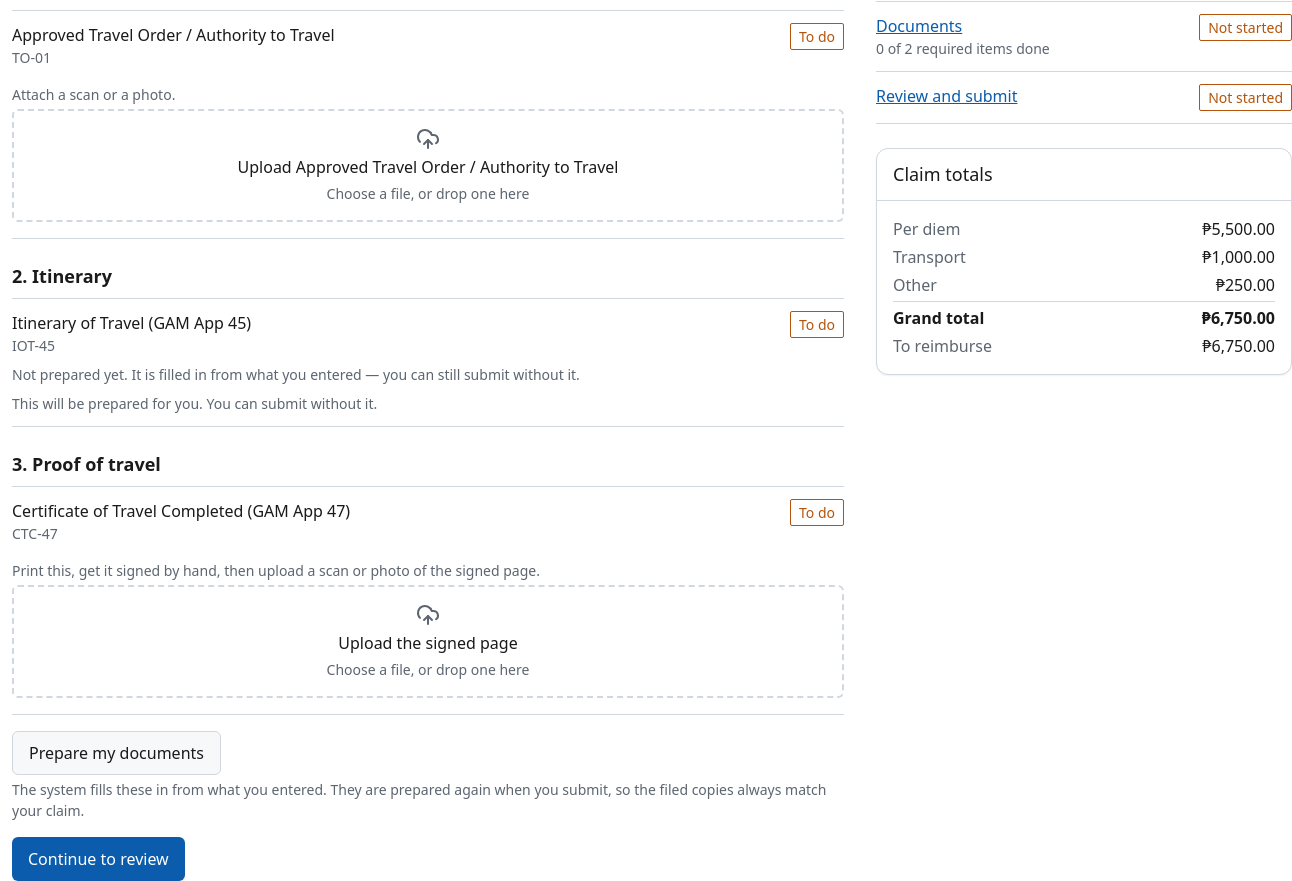
Test: DocumentsStepPage › surfaces the server's reason when the claim is not ready to generate
(page scrolled)
Click the button "Prepare my documents" at (116, 753), box top-left (12, 731), bottom-right (221, 775)
(page scrolled)
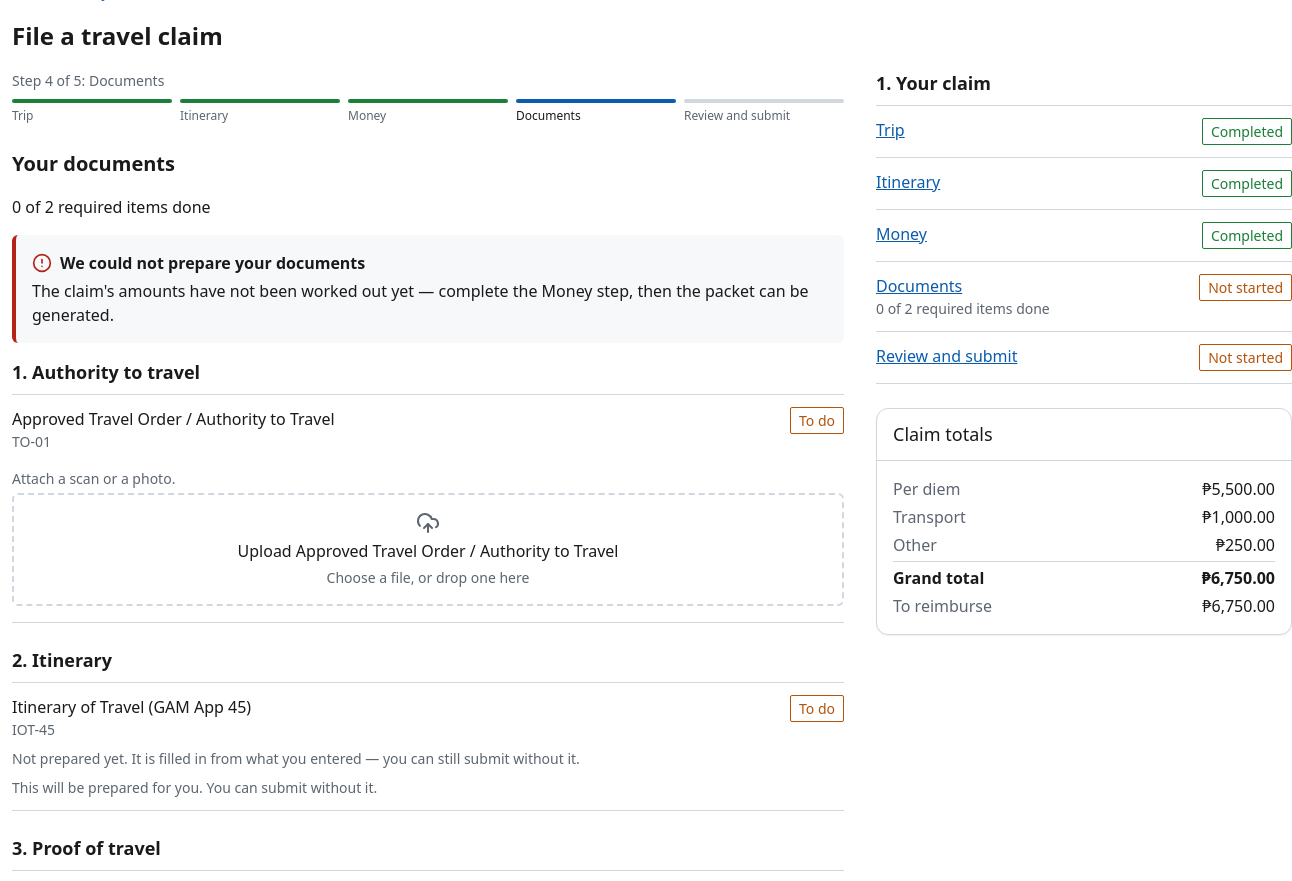
Result: the text "complete the Money step" is shown at top-left (32, 280), bottom-right (809, 326)
